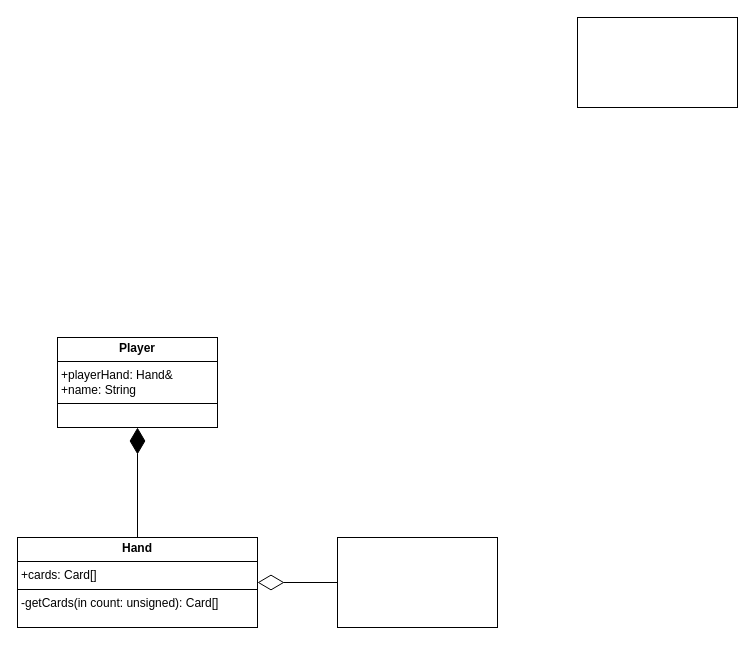
Image size: 755x645. Some labels were removed from this diagram. The centre of each missing label's shape, as x and y in pixels:
"Card +name: String" belongs at [417,582].
"GameManager -gameLoop(): void" belongs at [657,62].
